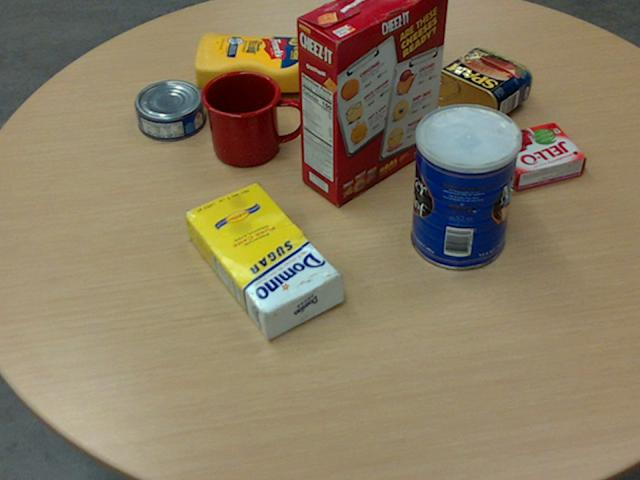cracker_box: (295, 0, 448, 204)
gelatin_box: (487, 121, 585, 188)
large_marker: (362, 20, 379, 110)
master_chef_can: (410, 103, 520, 270)
mug: (199, 70, 302, 166)
mustard_bottle: (194, 32, 346, 91)
potted_meat_can: (427, 47, 530, 130)
sugar_box: (181, 181, 343, 339)
tomato_soup_can: (366, 0, 418, 72)
tuna_fish_can: (133, 79, 204, 139)
